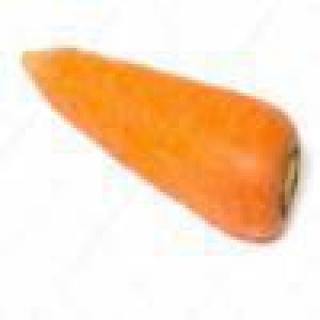Wortel: (4, 33, 308, 263)
